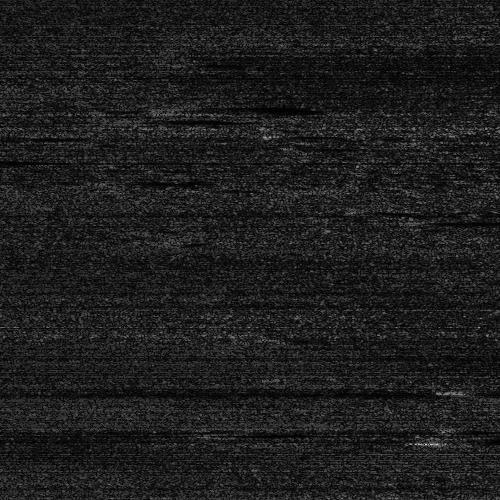object: (134, 102, 249, 113), (426, 434, 499, 443), (382, 217, 455, 222), (409, 386, 472, 391), (84, 115, 137, 120), (187, 430, 240, 435), (0, 121, 6, 150), (468, 233, 500, 238)
shadow: (192, 102, 257, 113), (111, 115, 213, 120), (419, 217, 500, 222), (462, 434, 500, 443), (214, 430, 282, 435), (440, 386, 500, 391), (0, 121, 9, 150), (0, 158, 49, 163)
